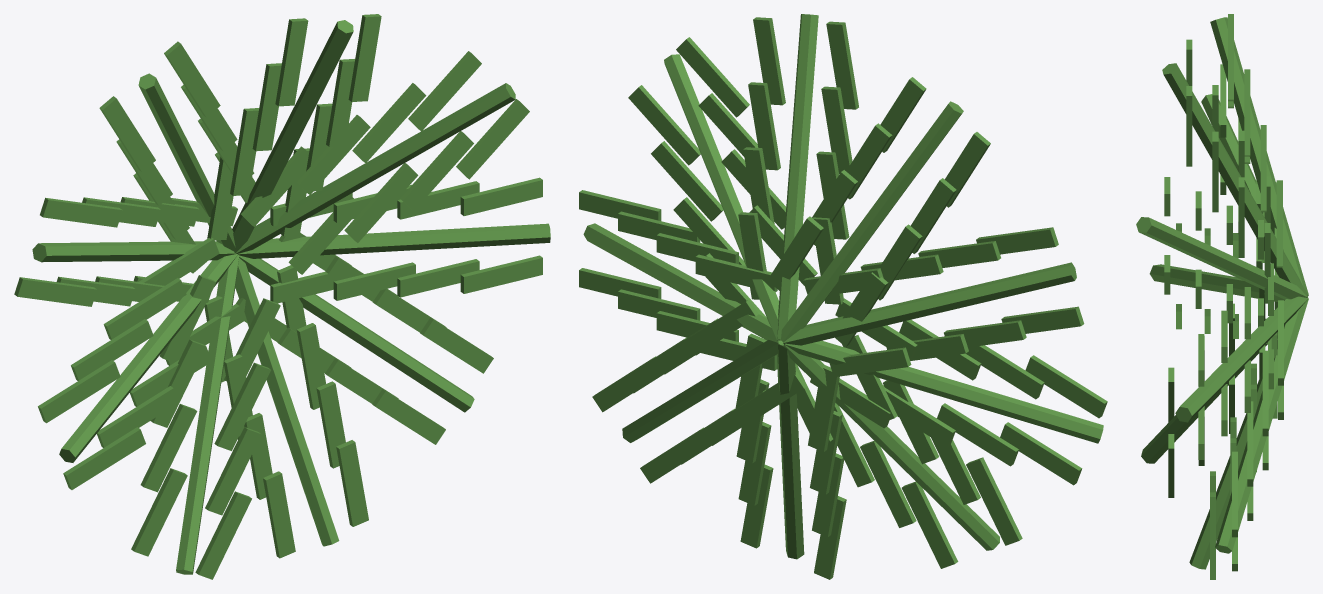
The model's file is fern_clump.glb.
The picture shows the model from 3 angles, left to right: view 1: azimuth 30°, elevation 25°; view 2: azimuth 150°, elevation 25°; view 3: azimuth 270°, elevation 25°; orthographic projection. The views are drawn at different scales.
Visible parts, largest first — view 1: world; view 2: world; view 3: world.
Boxes of the visible parts, x1,y1,x2,y2 form: world: (14, 14, 550, 579); world: (579, 14, 1107, 579); world: (1136, 14, 1308, 579).
Size of the model in its own units: 1.11 by 1.12 by 0.3415.
